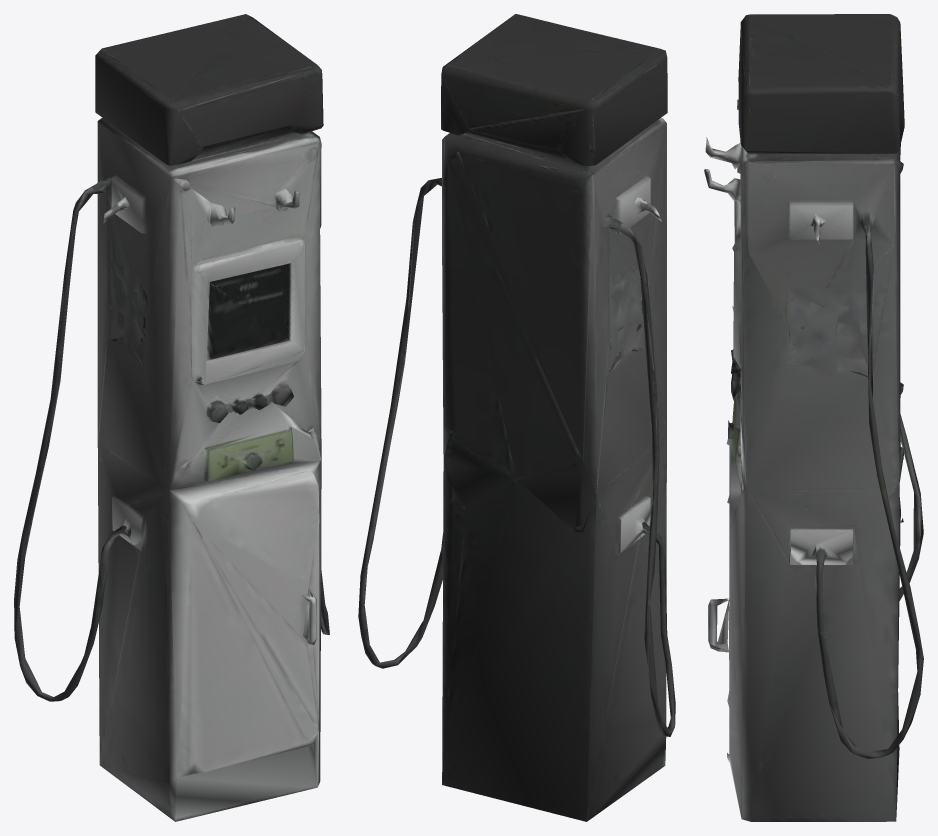
3 renders of one model, left to right at view 1: azimuth 30°, elevation 25°; view 2: azimuth 150°, elevation 25°; view 3: azimuth 270°, elevation 25°, orthographic. The views are drawn at different scales.
Size of the model in its own units: 0.8243 by 1.9 by 0.515.
1 material, 1 textured.
